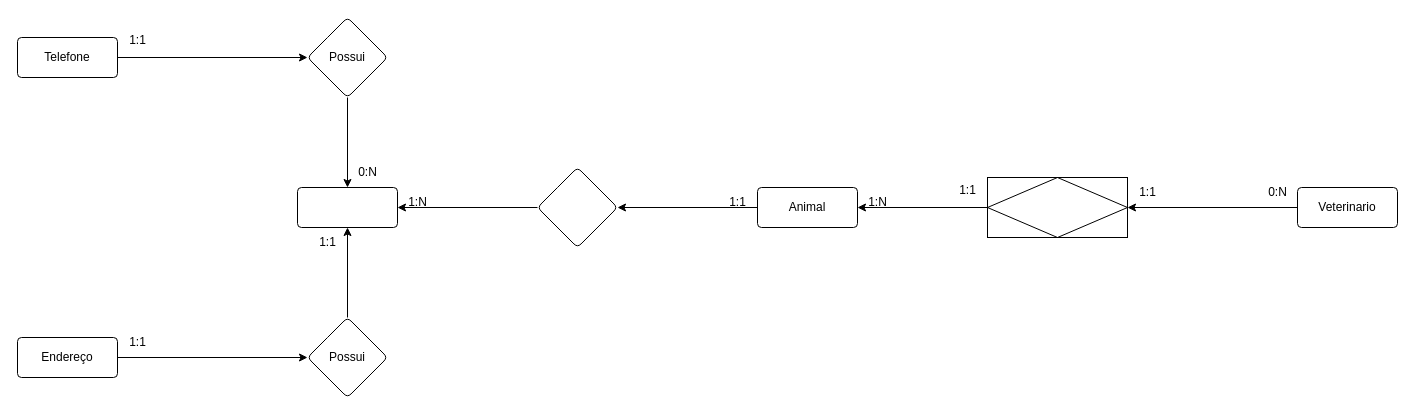
Some shapes in this 1415 by 415 pixel diagram are drawn without their labels. The centre of each missing label's shape, as x and y in pixels:
"Atendimento" belongs at (1057,207).
"Percente" belongs at (577,207).
"Tutor" belongs at (347,207).
